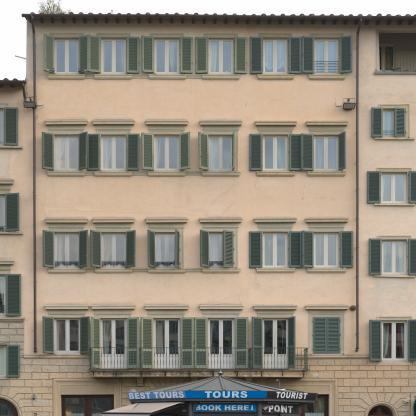Balcony: (89, 347, 310, 377)
Building Outline: (22, 14, 360, 416)
Cornice: (198, 304, 245, 310), (43, 119, 89, 125), (91, 119, 137, 125), (144, 119, 190, 125), (198, 120, 244, 126), (304, 304, 350, 310), (44, 304, 90, 310), (91, 304, 137, 310), (144, 304, 190, 310), (252, 304, 298, 310), (304, 120, 349, 126), (253, 120, 298, 126), (304, 217, 349, 223), (91, 218, 136, 223), (44, 218, 89, 223), (144, 218, 189, 223), (198, 218, 243, 223), (254, 218, 298, 223)
Door: (207, 318, 235, 369), (100, 318, 127, 369), (153, 318, 180, 369), (262, 318, 289, 368), (61, 394, 114, 416)
Facade: (21, 13, 361, 416)
Floor: (25, 99, 360, 200), (25, 200, 360, 290), (25, 290, 360, 377)
Floor Slab: (25, 93, 360, 99), (25, 284, 360, 290), (25, 194, 360, 200), (25, 371, 360, 377)
Ground Floor: (25, 377, 360, 416)
Sill: (306, 268, 347, 275), (46, 268, 87, 275), (255, 267, 296, 274), (306, 74, 347, 81), (201, 74, 242, 81), (255, 74, 296, 81), (200, 171, 241, 178), (147, 268, 187, 275), (93, 268, 134, 274), (46, 74, 87, 80), (93, 74, 134, 80), (147, 74, 188, 80), (306, 171, 347, 177), (46, 171, 87, 177), (93, 171, 134, 177), (146, 171, 187, 177), (255, 171, 296, 177), (201, 268, 241, 274)
Top Floor: (25, 24, 360, 99)
Window: (314, 317, 341, 354), (208, 232, 234, 269), (313, 232, 339, 269), (208, 37, 234, 74), (314, 37, 340, 74), (263, 37, 289, 74), (154, 37, 180, 74), (208, 135, 234, 172), (154, 134, 180, 171), (100, 134, 126, 171), (54, 318, 81, 353), (54, 232, 79, 269), (263, 232, 288, 269), (154, 232, 179, 269), (101, 232, 126, 269), (54, 37, 79, 74), (101, 37, 126, 74), (54, 134, 79, 171), (314, 135, 339, 172), (263, 134, 288, 171)
